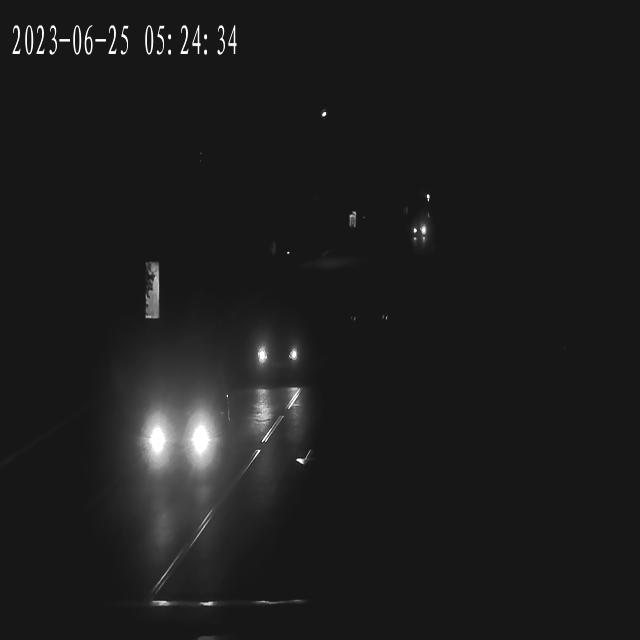Car: (131, 368, 232, 503), (251, 315, 310, 390), (409, 215, 429, 248)
